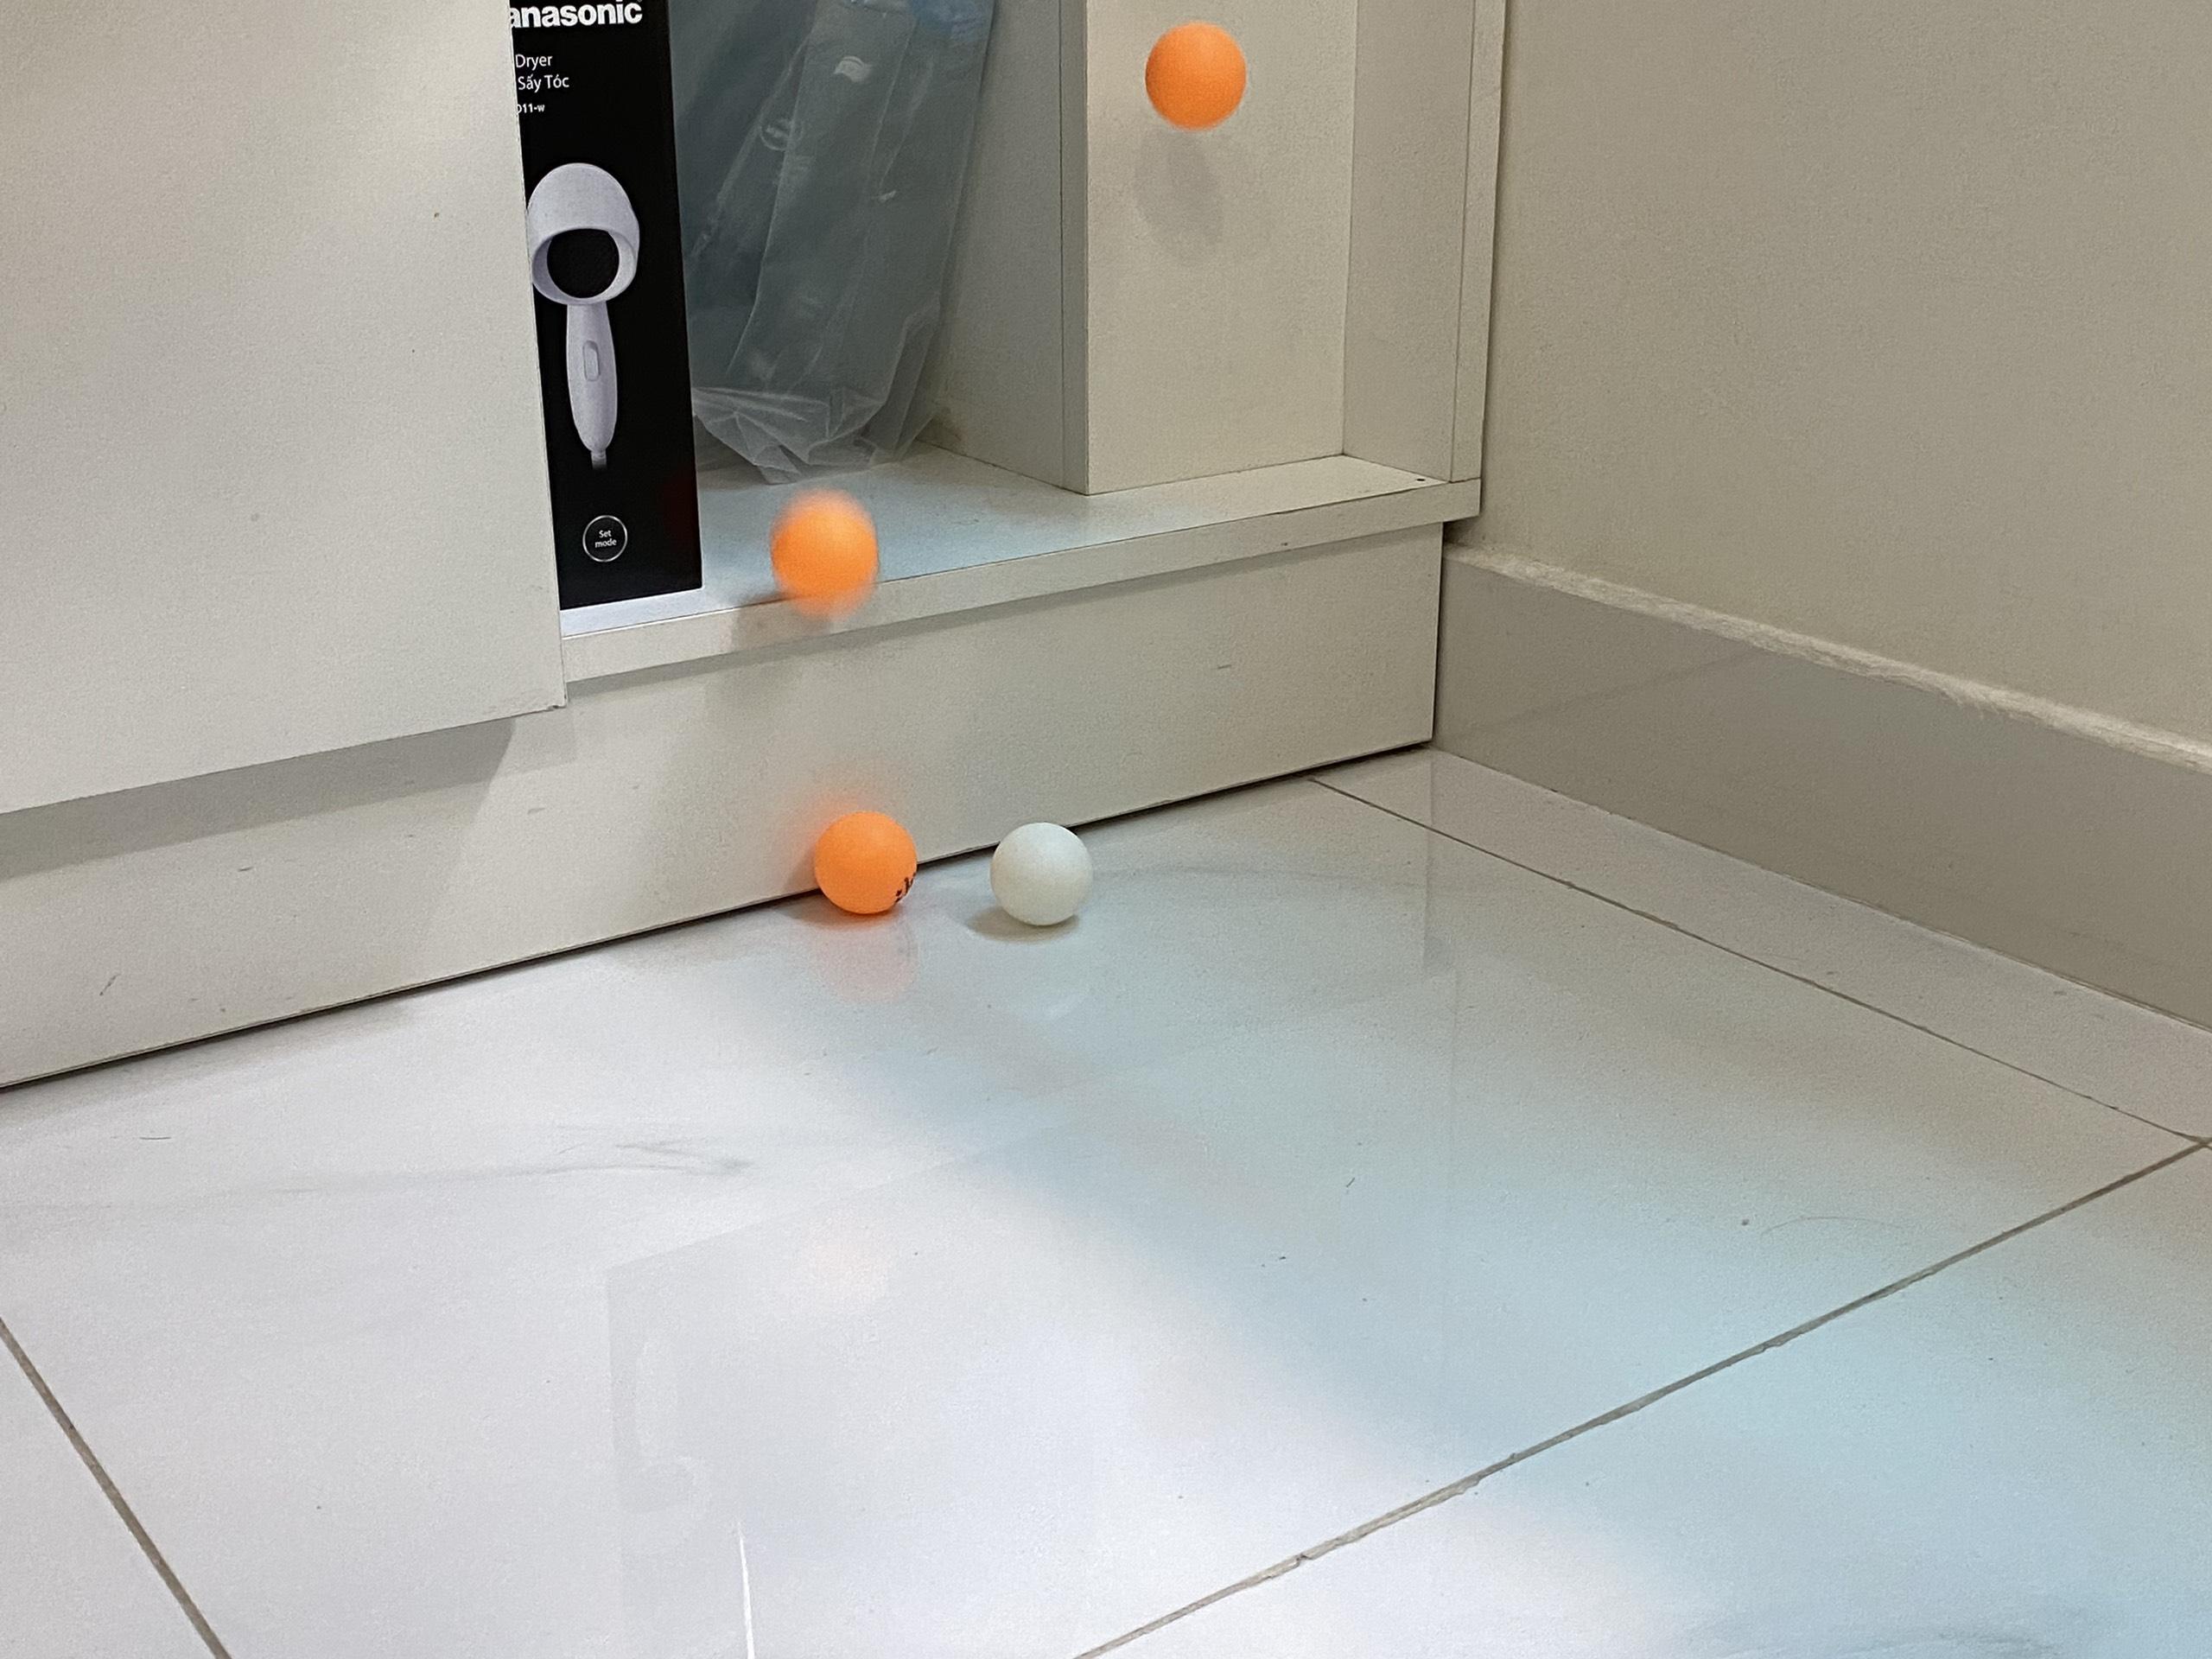oball: (775, 493, 874, 612), (812, 810, 918, 913), (1151, 19, 1247, 125)
